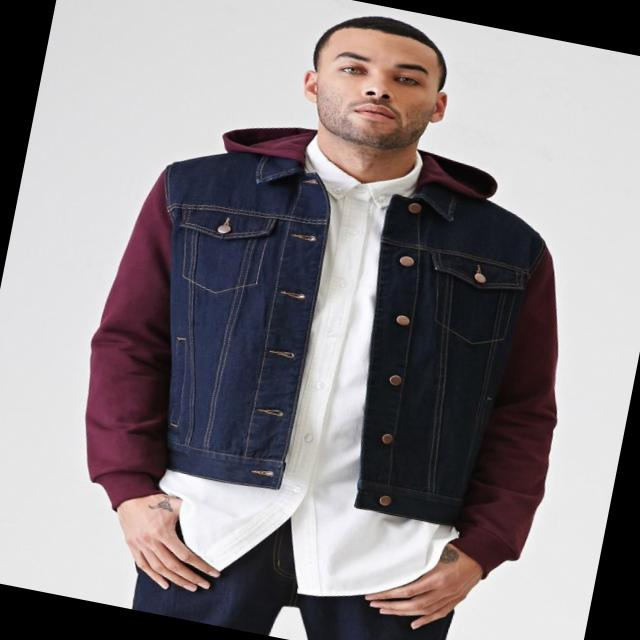Jacket: (61, 110, 604, 590)
